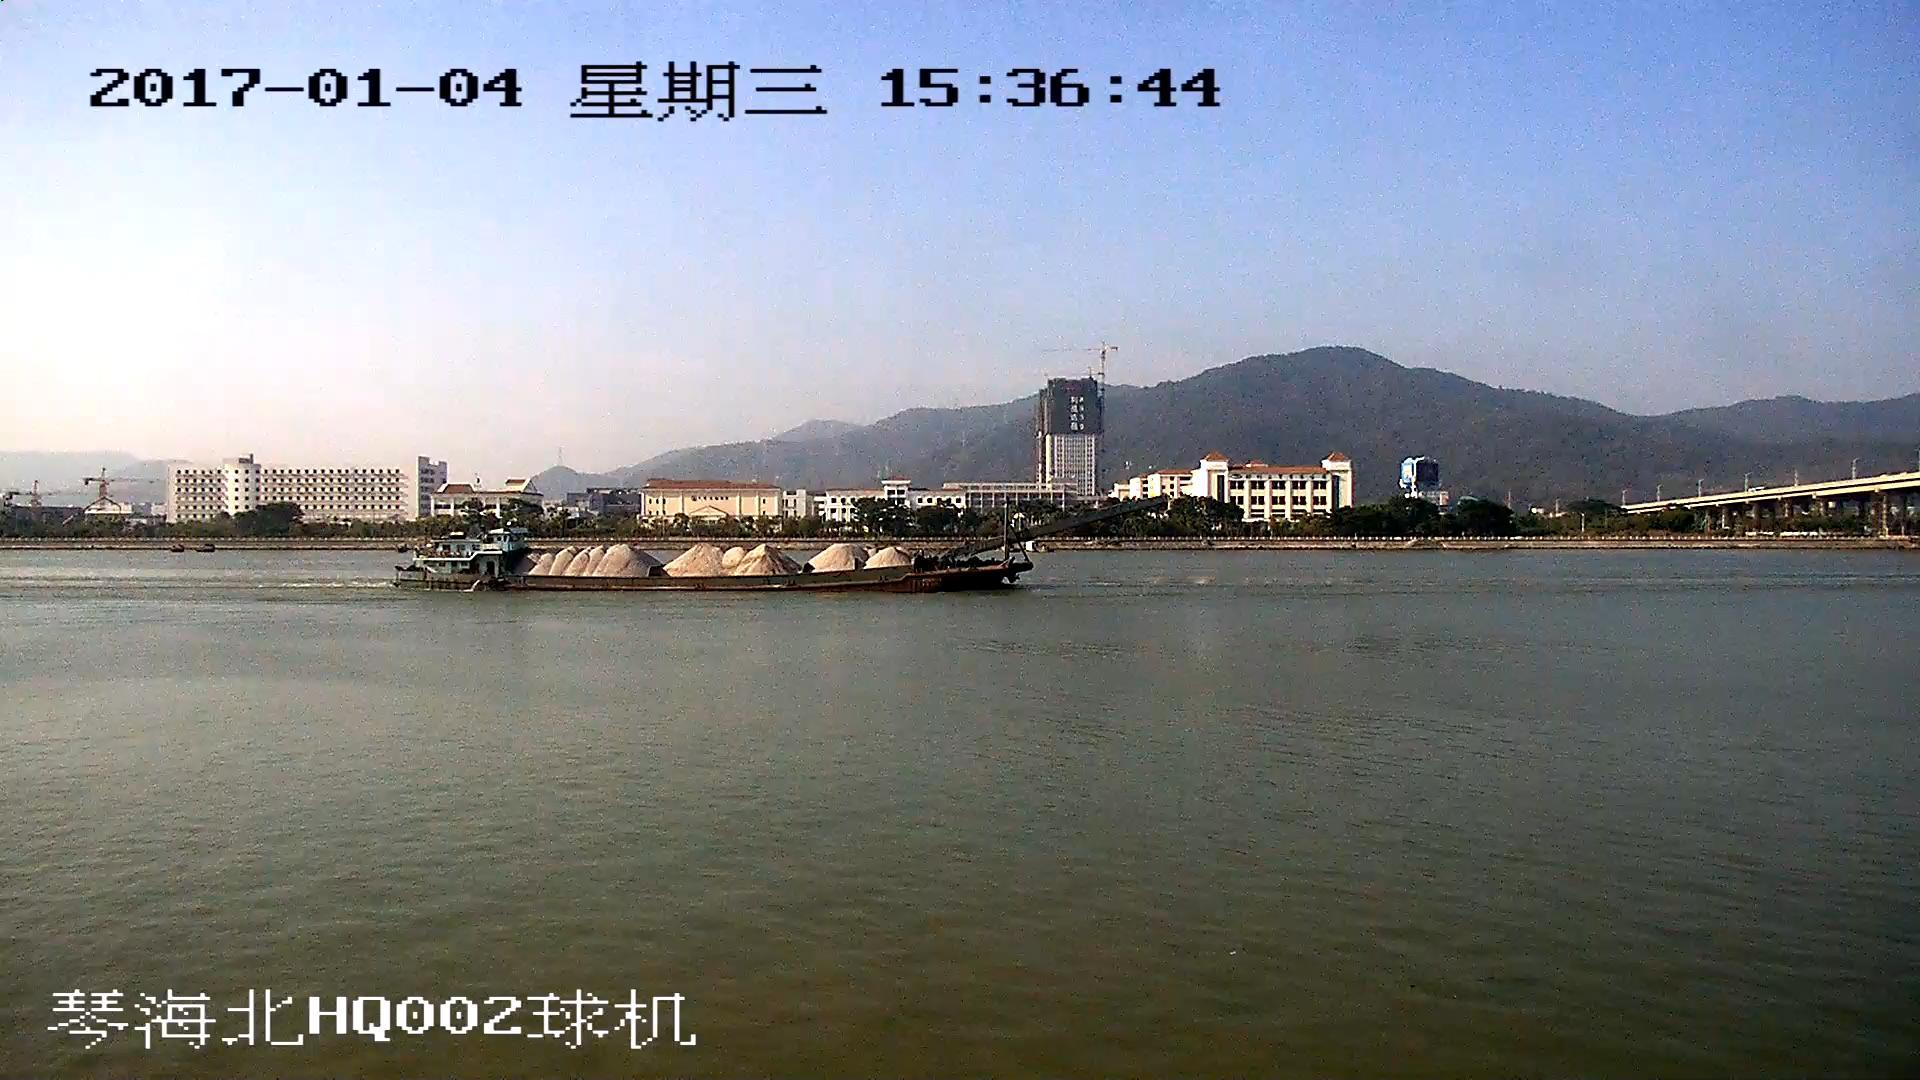Ship: (392, 497, 1162, 596)
